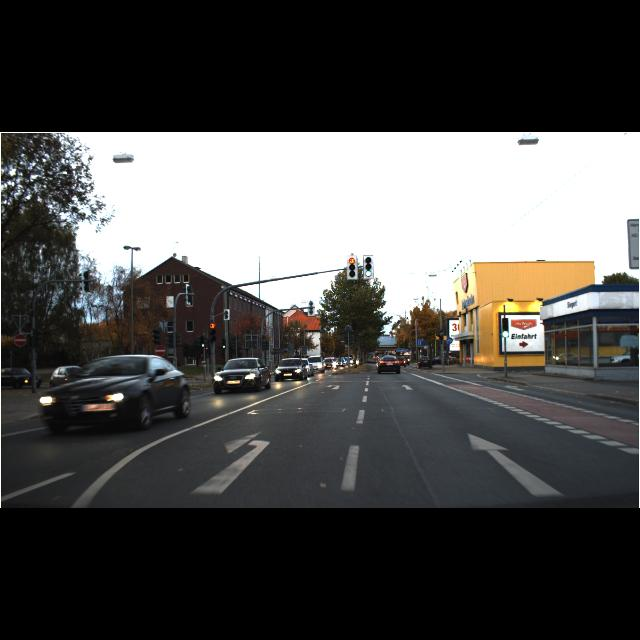mandatory: (340, 358, 348, 364)
other: (13, 333, 27, 347), (154, 345, 166, 357)
